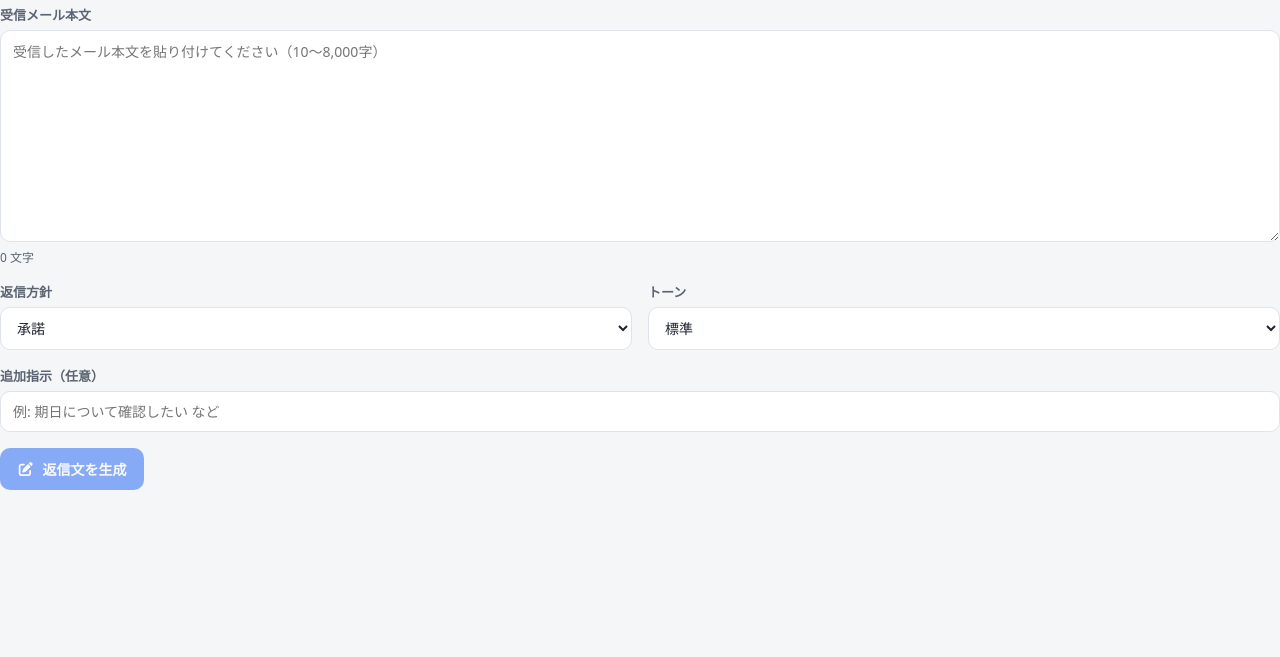
Test: MainPage › 10文字以上入力すると生成でき、4部構成トークン付きドラフトが表示される
Type "お世話になっております。来週の打ち合わせ日程についてご相談です。" into the text box labelled "受信メール本文".
click(640, 136); type("お世話になっております。来週の打ち合わせ日程についてご相談です。")  # box top-left (0, 30), bottom-right (1279, 242)
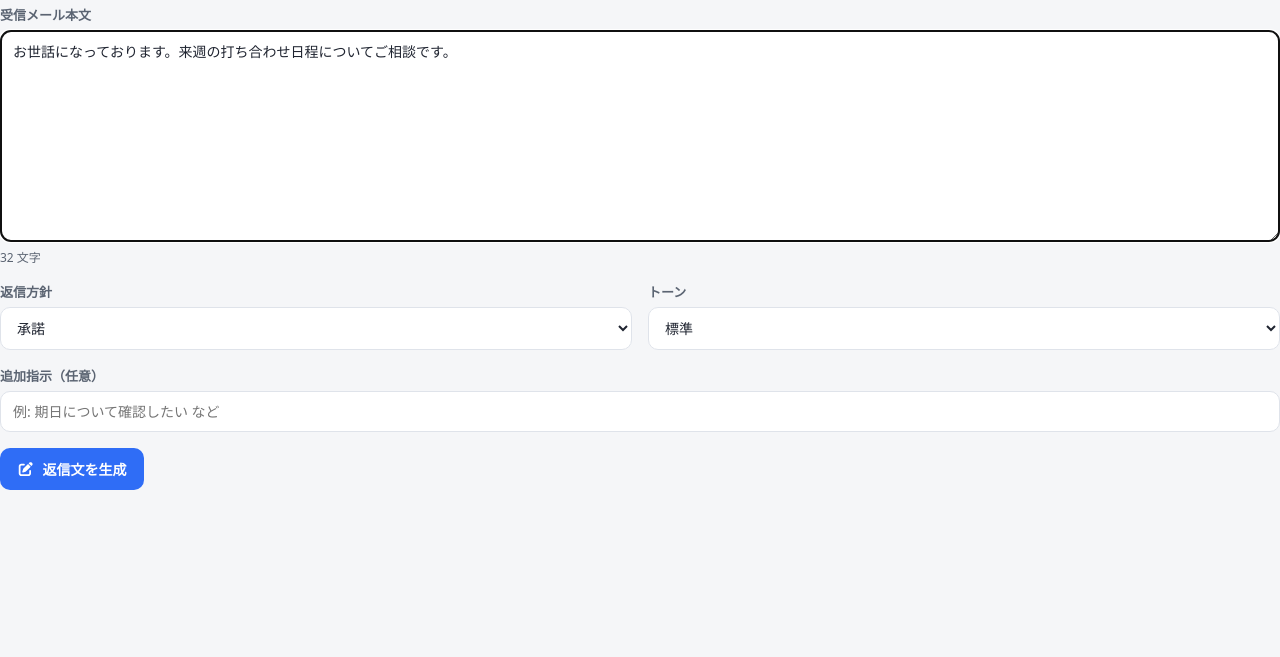
Expected: the button "返信文を生成" is enabled
Click the button "返信文を生成".
click(72, 469)  # box top-left (0, 448), bottom-right (144, 490)
(page scrolled)
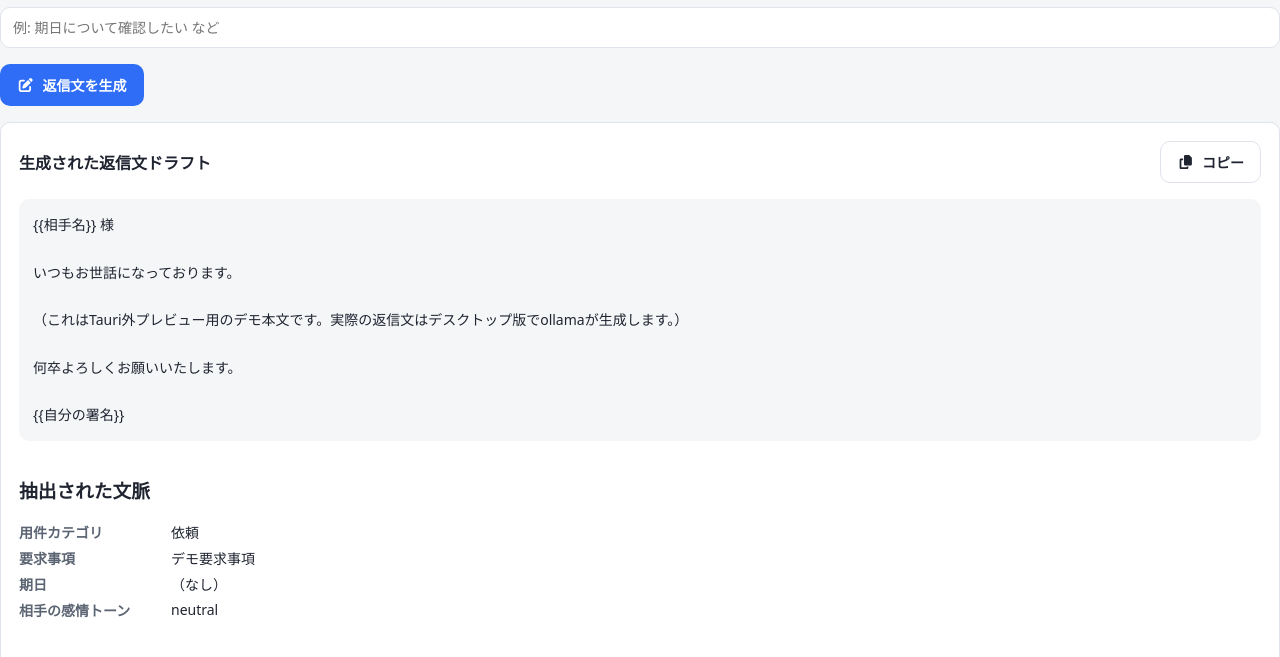
Expected: the heading "生成された返信文ドラフト" is shown, top-left (19, 150), bottom-right (211, 174)
Expected: the text "{{相手名}}" shows "{{自分の署名}}", top-left (33, 215), bottom-right (688, 424)
